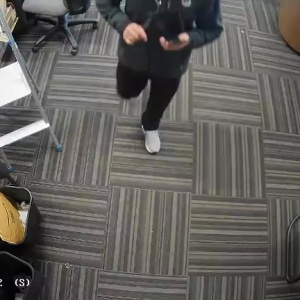person: (109, 0, 219, 156)
